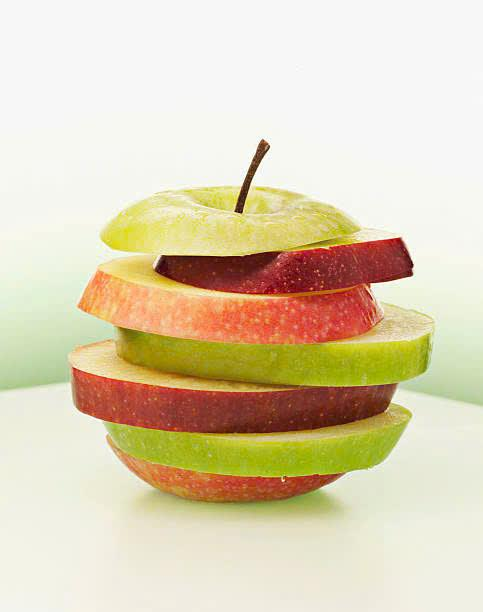apple: (54, 151, 428, 540)
